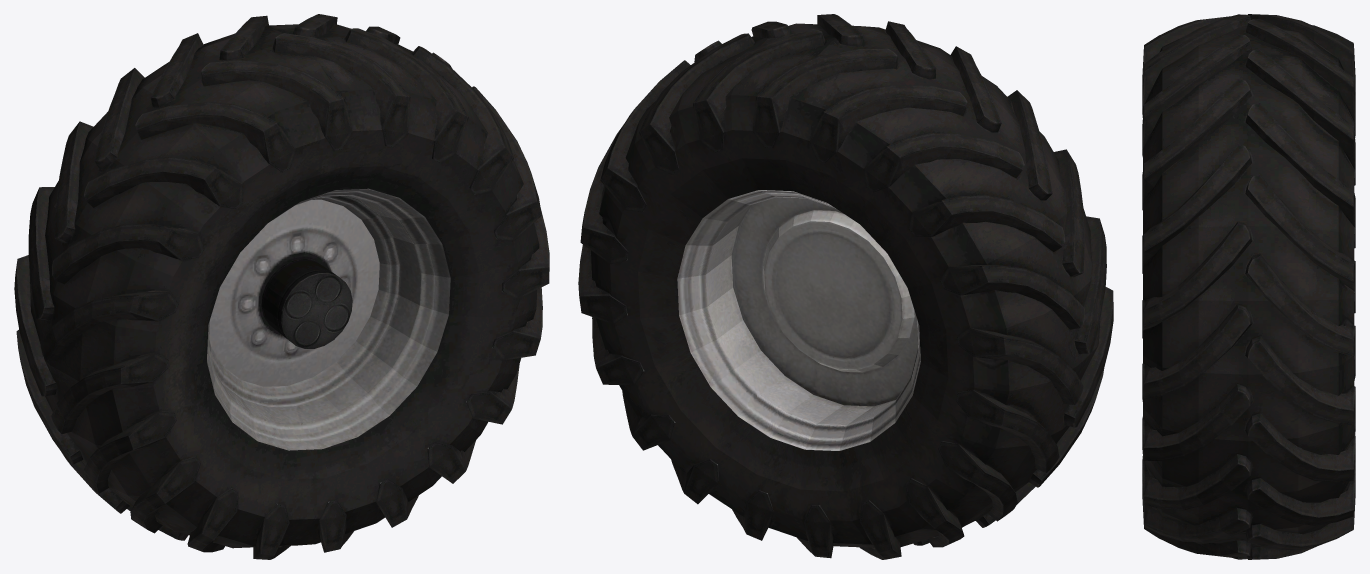
The model's file is r6_front.glb.
The picture shows the model from 3 angles, left to right: view 1: azimuth 30°, elevation 25°; view 2: azimuth 150°, elevation 25°; view 3: azimuth 270°, elevation 25°; orthographic projection.
Visible parts, largest first — view 1: r6_front; view 2: r6_front; view 3: r6_front.
Part boxes in pixels (x1,y1,x2,y2): r6_front: (14, 14, 549, 559); r6_front: (578, 14, 1113, 559); r6_front: (1142, 14, 1355, 559).
Size of the model in its own units: 1 by 1 by 0.3906.
1 material, 1 textured.
